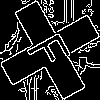F: (25, 25, 80, 74)
